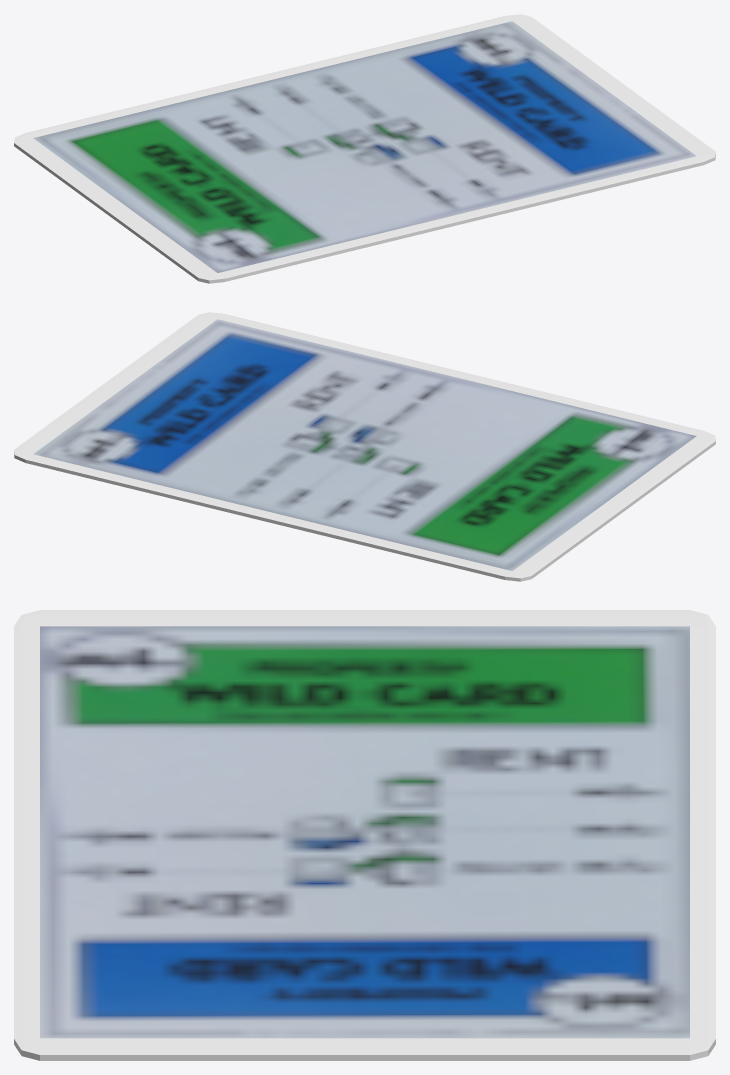
The model's file is bluegreenwild.glb.
The picture shows the model from 3 angles, top to bottom: view 1: azimuth 30°, elevation 25°; view 2: azimuth 150°, elevation 25°; view 3: azimuth 270°, elevation 25°; orthographic projection. The views are drawn at different scales.
Visible parts, largest first — view 1: Cube; view 2: Cube; view 3: Cube.
Boxes of the visible parts, left/top/right/bottom form: Cube: left=14, top=14, right=715, bottom=283; Cube: left=14, top=312, right=715, bottom=581; Cube: left=14, top=610, right=715, bottom=1060.
Size of the model in its own units: 0.6 by 0.004 by 0.4.
Materials: 3 (2 with a texture image).
